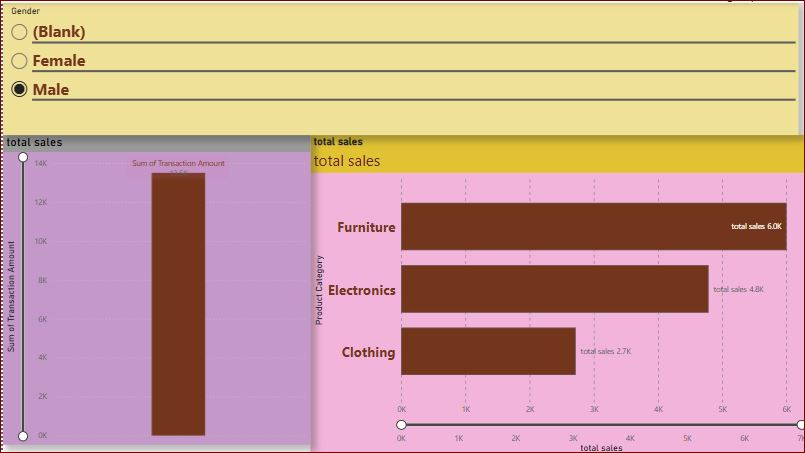

The dashboard page shown, as its layout file describes it:
{"tool":"powerbi","page":{"name":"top performimg product category","canvas":[1280,720],"ordinal":1},"visuals":[{"type":"clusteredBarChart","title":"total sales","fields":{"Category":["customer transaction data.Product Category"],"Y":["Sum(customer transaction data.Transaction Amount)"]},"box":[488.1,209.5,792.9,509.5],"z":0},{"type":"clusteredColumnChart","title":"total sales","fields":{"Y":["Sum(customer transaction data.Transaction Amount)"]},"box":[0,209.5,488.1,492.9],"z":3},{"type":"slicer","fields":{"Values":["customer segmentation.Gender"]},"box":[0,0,1264.3,209.5],"z":4}]}

Visuals, with their boxes in screenshot pixels (x1, y1, x2, y2), scaled from the page's 1280x720 canvas onto the 805x453 screenshot:
"total sales" clusteredBarChart: x1=307 y1=132 x2=804 y2=452
"total sales" clusteredColumnChart: x1=0 y1=132 x2=307 y2=442
slicer - customer segmentation.Gender: x1=0 y1=0 x2=795 y2=132
